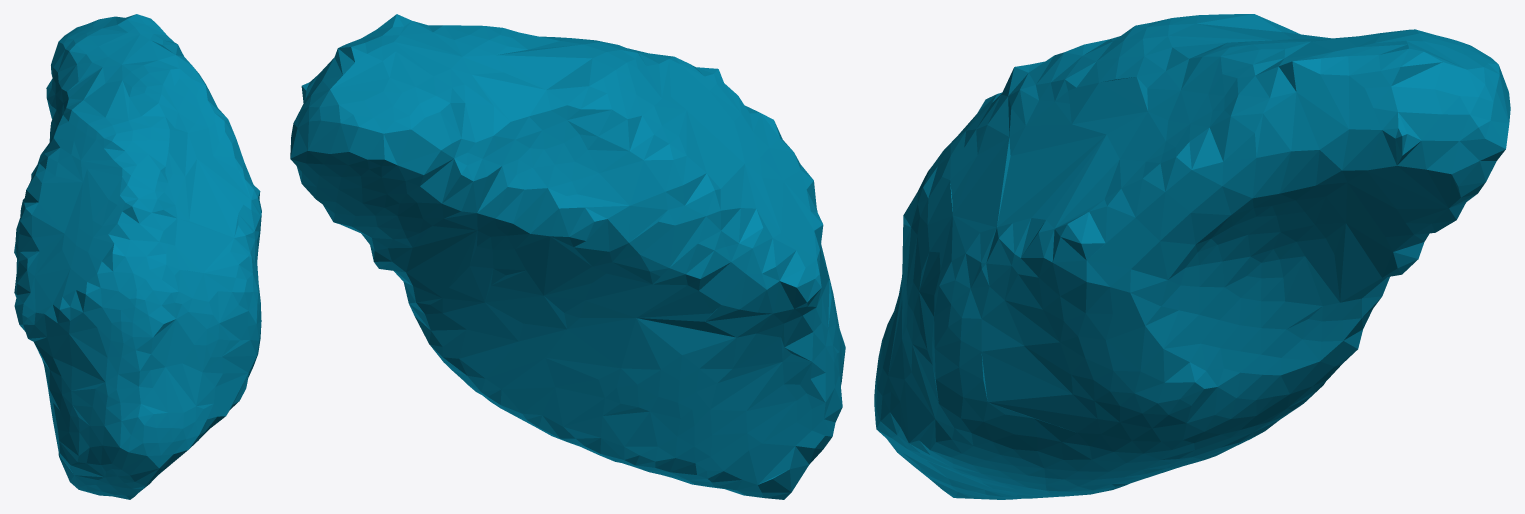
File: Model_10263_LH__Anteroventral_thalamic_nucleus_(AV).obj
The picture shows the model from 3 angles, left to right: view 1: azimuth 30°, elevation 25°; view 2: azimuth 150°, elevation 25°; view 3: azimuth 270°, elevation 25°; orthographic projection. The views are drawn at different scales.
Size of the model in its own units: 1.55 by 2.07 by 2.09.
